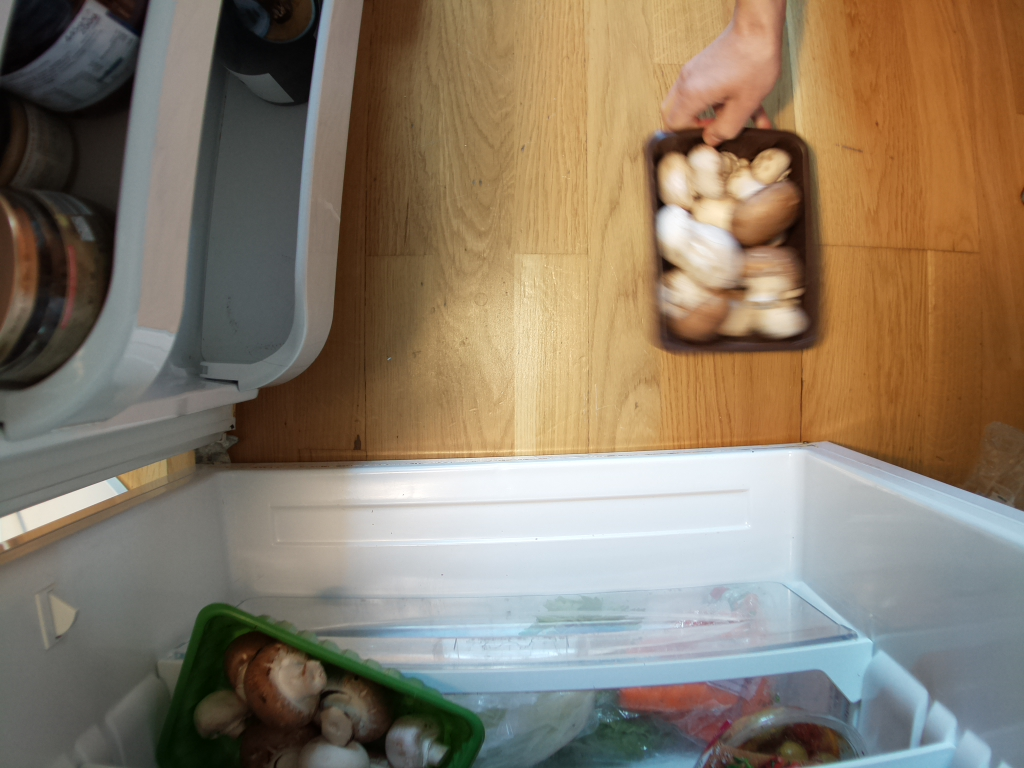mushrooms: (150, 616, 487, 768), (641, 132, 832, 360)
